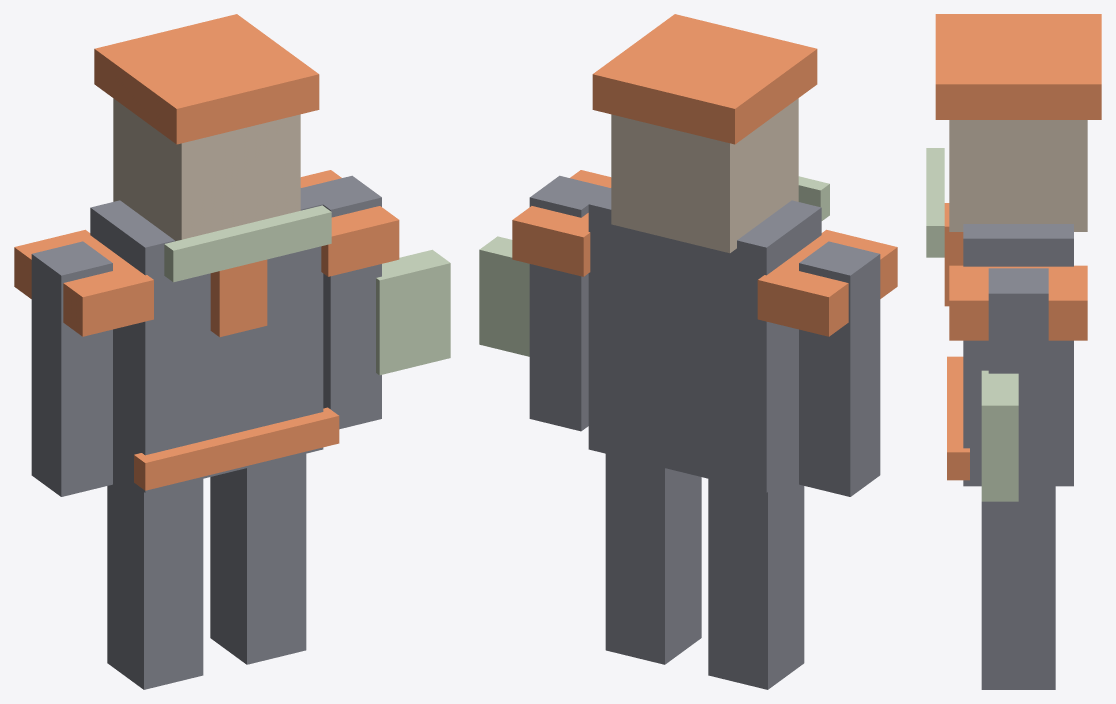
Rendered from 19_ossa_starfall_guide_at_integrity.glb.
3 renders of one model, left to right at view 1: azimuth 30°, elevation 25°; view 2: azimuth 150°, elevation 25°; view 3: azimuth 270°, elevation 25°, orthographic.
Parts seen in each view (by area): view 1: Ossa Starfall, Guide at Integrity; view 2: Ossa Starfall, Guide at Integrity; view 3: Ossa Starfall, Guide at Integrity.
Part boxes in pixels (x1,y1,x2,y2): Ossa Starfall, Guide at Integrity: [14, 14, 450, 689]; Ossa Starfall, Guide at Integrity: [479, 14, 897, 689]; Ossa Starfall, Guide at Integrity: [926, 14, 1101, 689].
Size of the model in its own units: 1.01 by 1.48 by 0.3923.
